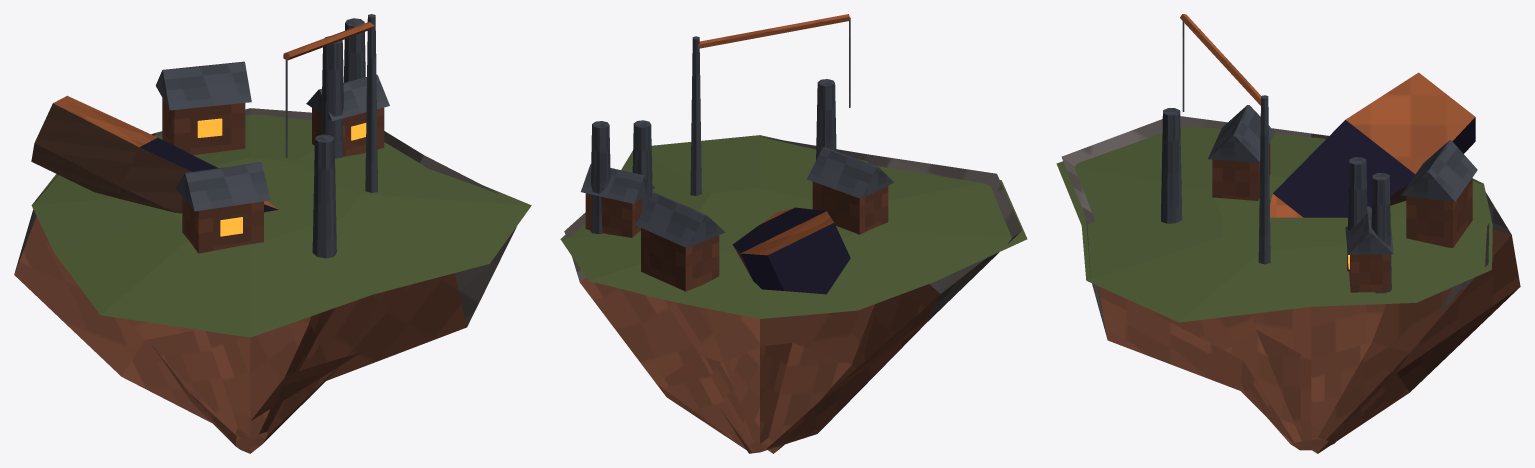
Rendered from SM_Env_ScrapIsle_HQ.glb.
3 views of the same model, side by side, from view 1: azimuth 30°, elevation 25°; view 2: azimuth 150°, elevation 25°; view 3: azimuth 270°, elevation 25° (orthographic). The views are drawn at different scales.
Visible parts, largest first — view 1: SM_Env_ScrapIsle_HQ; view 2: SM_Env_ScrapIsle_HQ; view 3: SM_Env_ScrapIsle_HQ.
Part boxes in pixels (x1,y1,x2,y2): SM_Env_ScrapIsle_HQ: (14, 14, 531, 453); SM_Env_ScrapIsle_HQ: (560, 14, 1027, 453); SM_Env_ScrapIsle_HQ: (1056, 14, 1520, 453).
Size of the model in its own units: 20.33 by 19.95 by 19.93.
Materials: 1 (1 with a texture image).
